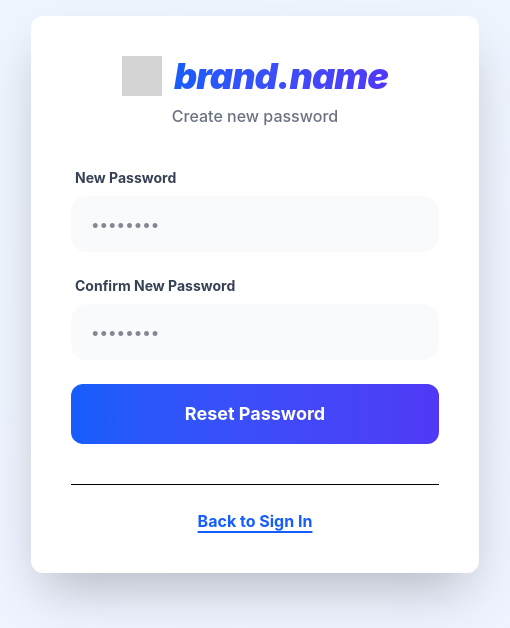
Test: ResetPassword Page › displays success message on successful reset
Type "newpassword123" into the 1st password field with placeholder "••••••••". click: (255, 224)
box: [71, 196, 439, 252]
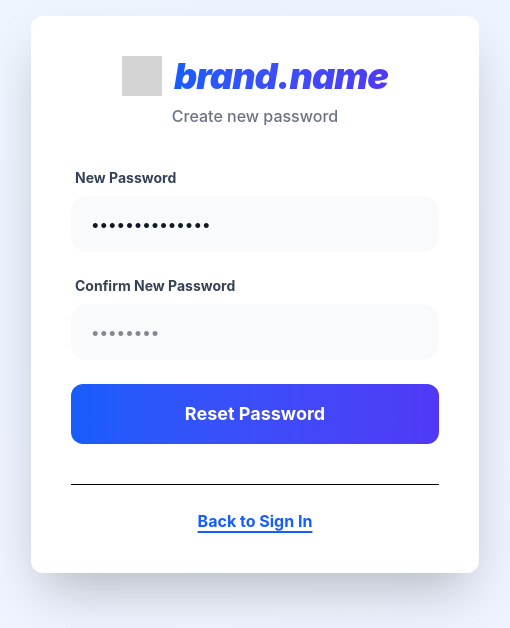
Type "newpassword123" into the password field with placeholder "••••••••". click: (255, 332)
box: [71, 304, 439, 360]
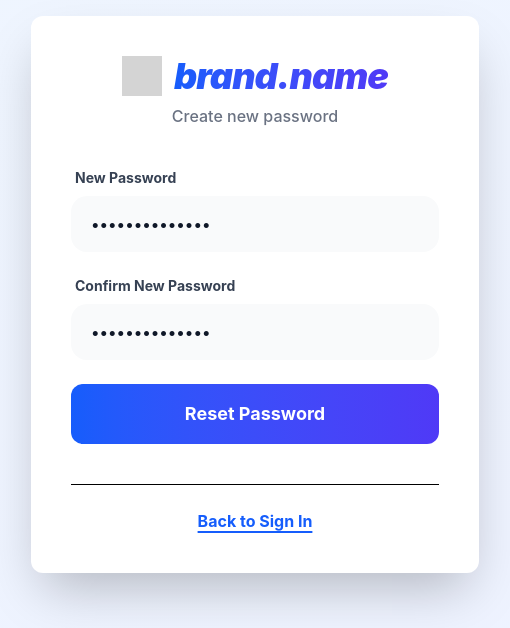
Click the button "Reset Password". click: (255, 414)
box: [71, 384, 439, 444]
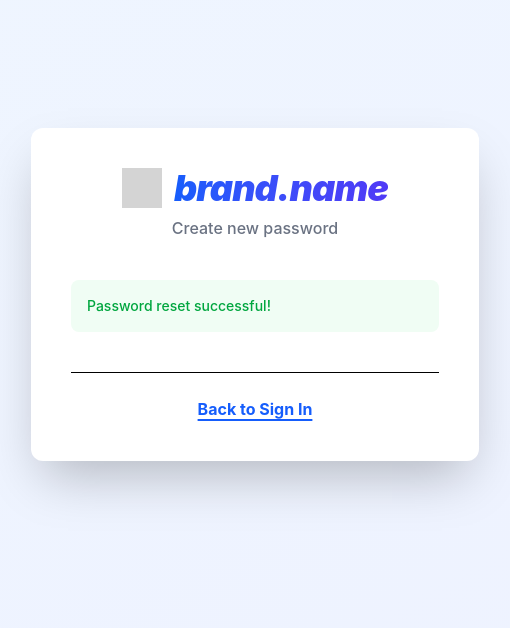
Now the text "Password reset successful!" is shown, box [71, 280, 439, 332]
